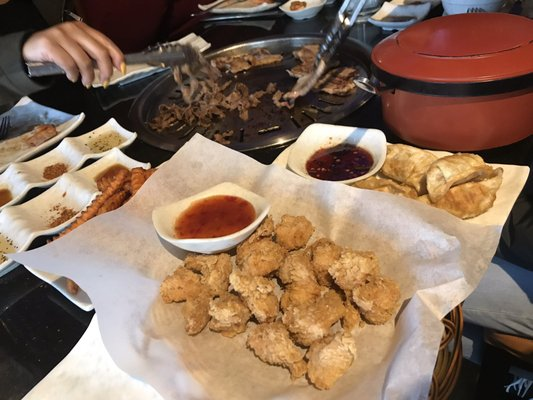sushi: (367, 12, 533, 154), (152, 181, 271, 259), (278, 0, 329, 22)
